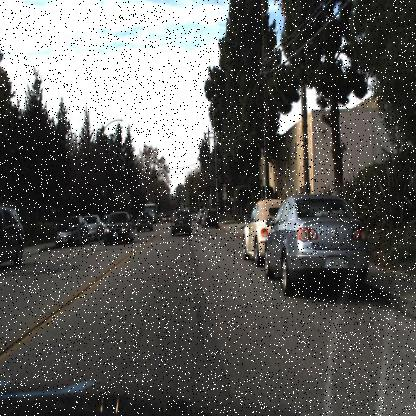car: (264, 192, 369, 296), (241, 196, 286, 268), (241, 196, 272, 273), (50, 213, 91, 253), (0, 205, 24, 270), (98, 206, 135, 247), (167, 206, 198, 240), (102, 210, 132, 244), (55, 222, 85, 248), (169, 210, 193, 237), (134, 208, 156, 236), (134, 209, 155, 235), (86, 214, 101, 241), (203, 205, 221, 227), (162, 211, 172, 227)
truck: (144, 199, 158, 215)
